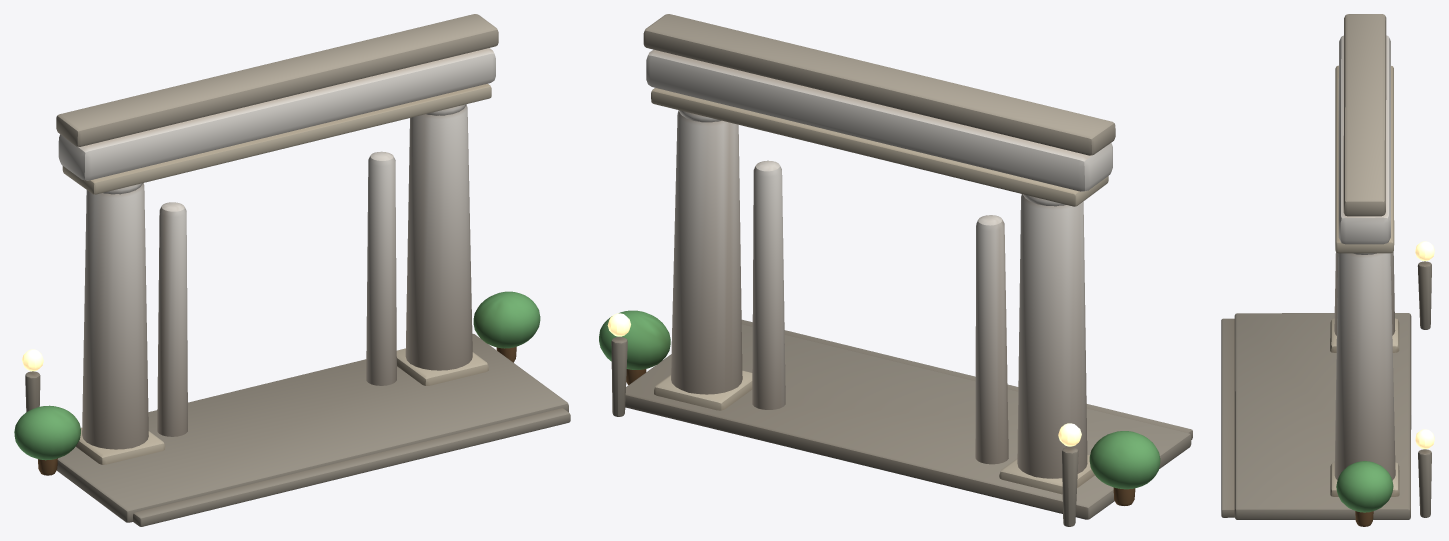
The picture shows the model from 3 angles, left to right: view 1: azimuth 30°, elevation 25°; view 2: azimuth 150°, elevation 25°; view 3: azimuth 270°, elevation 25°; orthographic projection. The views are drawn at different scales.
Visible parts, largest first — view 1: gate_1fb58c28; view 2: gate_1fb58c28; view 3: gate_1fb58c28.
Part boxes in pixels (x1,y1,x2,y2): gate_1fb58c28: [14, 14, 570, 526]; gate_1fb58c28: [599, 14, 1192, 526]; gate_1fb58c28: [1221, 14, 1434, 526].
Bounding box in the file's own units: 6.51 × 4.17 × 2.55.
